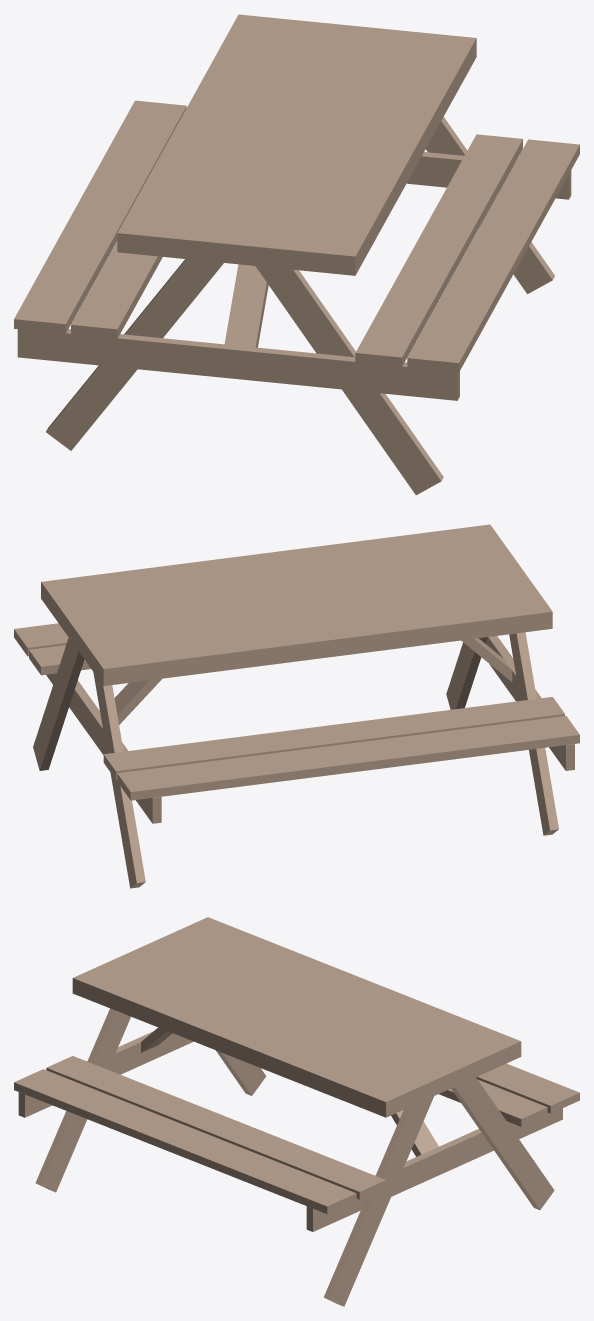
The model's file is wood_bench_24029.glb.
The picture shows the model from 3 angles, top to bottom: view 1: azimuth 30°, elevation 25°; view 2: azimuth 150°, elevation 25°; view 3: azimuth 270°, elevation 25°; orthographic projection. The views are drawn at different scales.
Visible parts, largest first — view 1: part_24036, part_24042, part_24031, part_24037, part_24032, part_24041, part_24040, part_24035, part_24034, part_24047, part_24048; view 2: part_24036, part_24037, part_24035, part_24046, part_24047, part_24040, part_24048, part_24041, part_24042, part_24031, part_24033, part_24032 (+1 smaller); view 3: part_24036, part_24031, part_24032, part_24047, part_24048, part_24046, part_24041, part_24037, part_24042, part_24035, part_24040, part_24033.
Part boxes in pixels (x1,y1,x2,y2): part_24036: [117, 14, 476, 275]; part_24042: [17, 329, 459, 400]; part_24031: [407, 139, 579, 372]; part_24037: [14, 100, 186, 333]; part_24032: [355, 134, 522, 366]; part_24041: [255, 266, 443, 495]; part_24040: [46, 259, 223, 450]; part_24035: [71, 241, 162, 338]; part_24034: [224, 264, 268, 347]; part_24047: [426, 117, 554, 293]; part_24048: [406, 152, 571, 199]; part_24036: [41, 524, 552, 685]; part_24037: [117, 716, 579, 800]; part_24035: [103, 697, 564, 779]; part_24046: [93, 672, 145, 888]; part_24047: [33, 638, 84, 770]; part_24040: [509, 632, 558, 835]; part_24048: [46, 673, 161, 823]; part_24041: [446, 637, 487, 709]; part_24042: [486, 636, 574, 770]; part_24031: [14, 623, 68, 656]; part_24033: [114, 678, 161, 724]; part_24032: [29, 645, 90, 675]; part_24036: [72, 917, 521, 1117]; part_24031: [14, 1069, 356, 1214]; part_24032: [46, 1056, 385, 1199]; part_24047: [323, 1096, 433, 1306]; part_24048: [306, 1108, 562, 1231]; part_24046: [451, 1077, 554, 1209]; part_24041: [35, 1008, 130, 1192]; part_24037: [476, 1063, 579, 1113]; part_24042: [18, 1031, 193, 1117]; part_24035: [439, 1079, 547, 1126]; part_24040: [216, 1050, 266, 1095]; part_24033: [391, 1110, 438, 1156].
Bounding box in the file's own units: 13.11 × 4.98 × 13.18.
